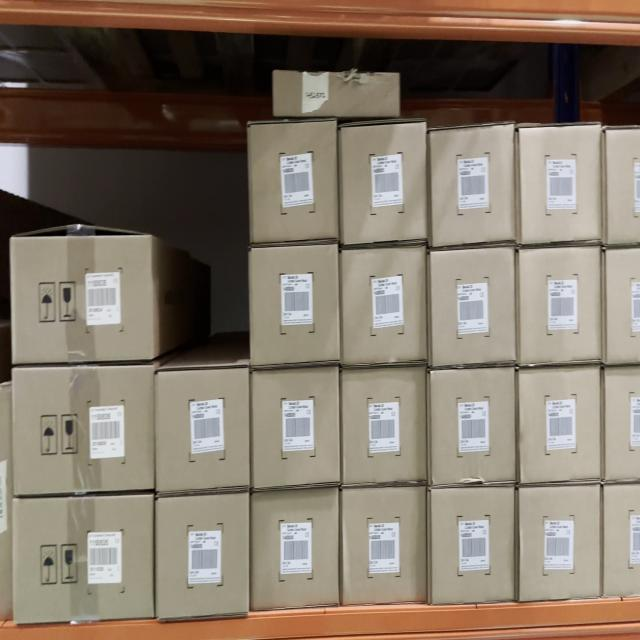box: (14, 370, 152, 493), (12, 240, 153, 358), (13, 500, 150, 615), (155, 374, 246, 490), (252, 124, 336, 244), (341, 127, 426, 240), (430, 130, 514, 243), (160, 500, 247, 608), (432, 250, 514, 363), (433, 370, 514, 482), (253, 491, 336, 600), (341, 370, 424, 479), (256, 374, 338, 484), (255, 250, 337, 359), (520, 253, 600, 364), (344, 252, 425, 361), (433, 491, 514, 600), (519, 376, 599, 480), (522, 132, 601, 236), (344, 494, 422, 599), (522, 491, 598, 595), (276, 71, 398, 115)
